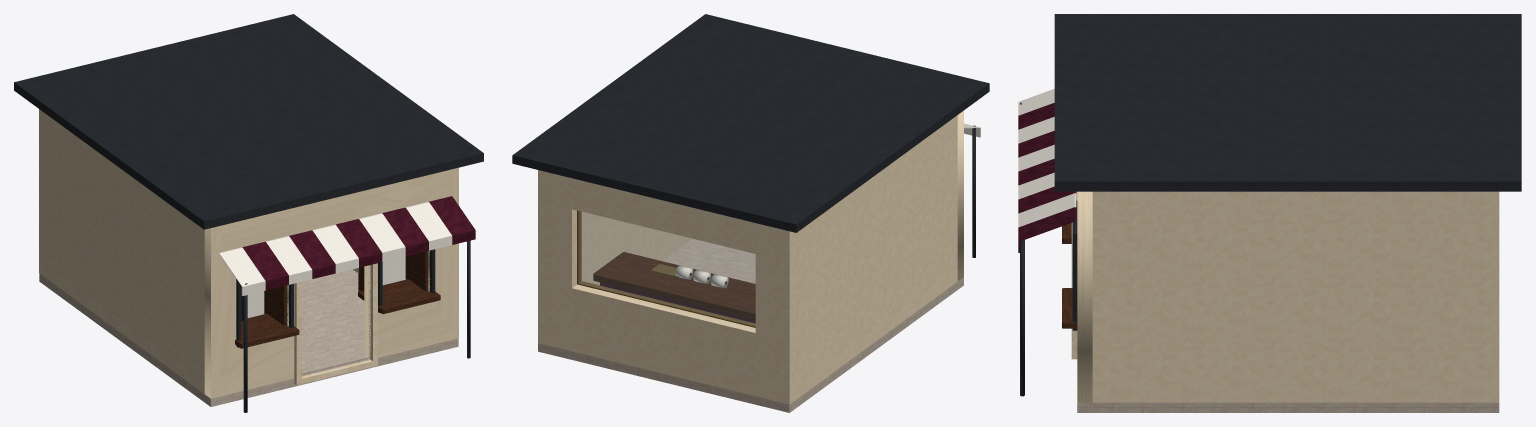
The model's file is ticket_booth.glb.
3 views of the same model, side by side, from view 1: azimuth 30°, elevation 25°; view 2: azimuth 150°, elevation 25°; view 3: azimuth 270°, elevation 25° (orthographic). The views are drawn at different scales.
Visible parts, largest first — view 1: Rebuilt_ticket_booth; view 2: Rebuilt_ticket_booth; view 3: Rebuilt_ticket_booth.
Part boxes in pixels (<box>): Rebuilt_ticket_booth: <box>14,14,483,412</box>; Rebuilt_ticket_booth: <box>512,14,989,412</box>; Rebuilt_ticket_booth: <box>1018,14,1521,412</box>.
Bounding box in the file's own units: 5.64 × 3.78 × 7.16.
Materials: 10 (9 with a texture image).
